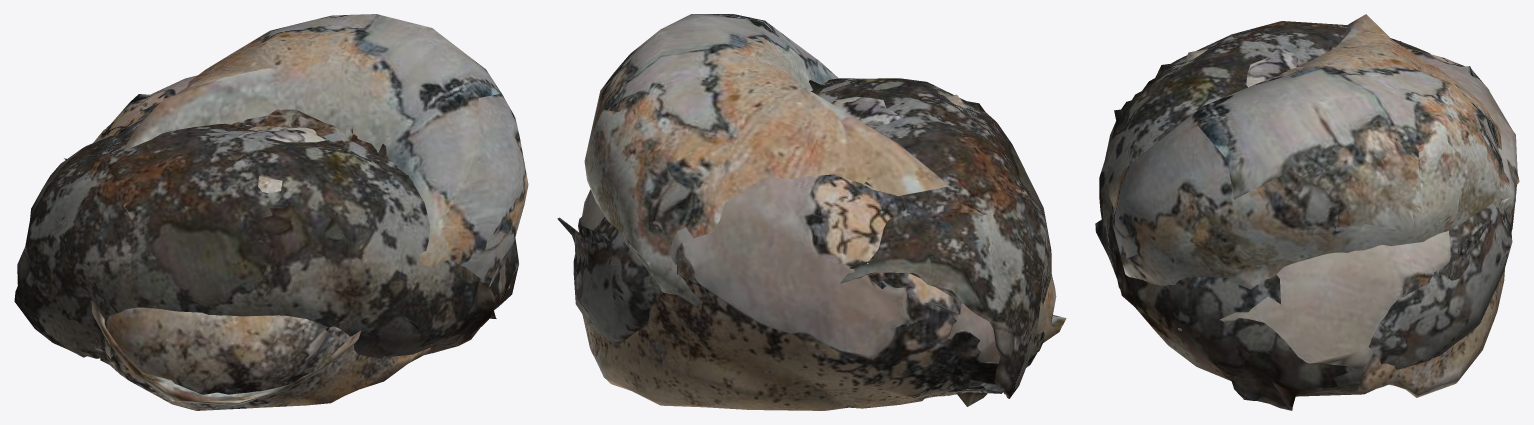
The model's file is seashells.glb.
3 renders of one model, left to right at view 1: azimuth 30°, elevation 25°; view 2: azimuth 150°, elevation 25°; view 3: azimuth 270°, elevation 25°, orthographic. The views are drawn at different scales.
Parts seen in each view (by area): view 1: yluiajq_LOD0_TIER3_002, yluiajq_LOD0_TIER3_000, yluiajq_LOD0_TIER3_001; view 2: yluiajq_LOD0_TIER3_001, yluiajq_LOD0_TIER3_000, yluiajq_LOD0_TIER3_002; view 3: yluiajq_LOD0_TIER3_000, yluiajq_LOD0_TIER3_002, yluiajq_LOD0_TIER3_001.
Boxes of the visible parts, x1,y1,x2,y2 form: yluiajq_LOD0_TIER3_002: (14, 109, 518, 364); yluiajq_LOD0_TIER3_000: (92, 14, 528, 405); yluiajq_LOD0_TIER3_001: (64, 75, 510, 410); yluiajq_LOD0_TIER3_001: (557, 94, 1056, 410); yluiajq_LOD0_TIER3_000: (584, 14, 1066, 395); yluiajq_LOD0_TIER3_002: (573, 78, 1051, 406); yluiajq_LOD0_TIER3_000: (1109, 14, 1515, 289); yluiajq_LOD0_TIER3_002: (1095, 21, 1512, 410); yluiajq_LOD0_TIER3_001: (1178, 40, 1519, 397).
Size of the model in its own units: 0.1125 by 0.0711 by 0.0913.
1 material, 1 textured.
